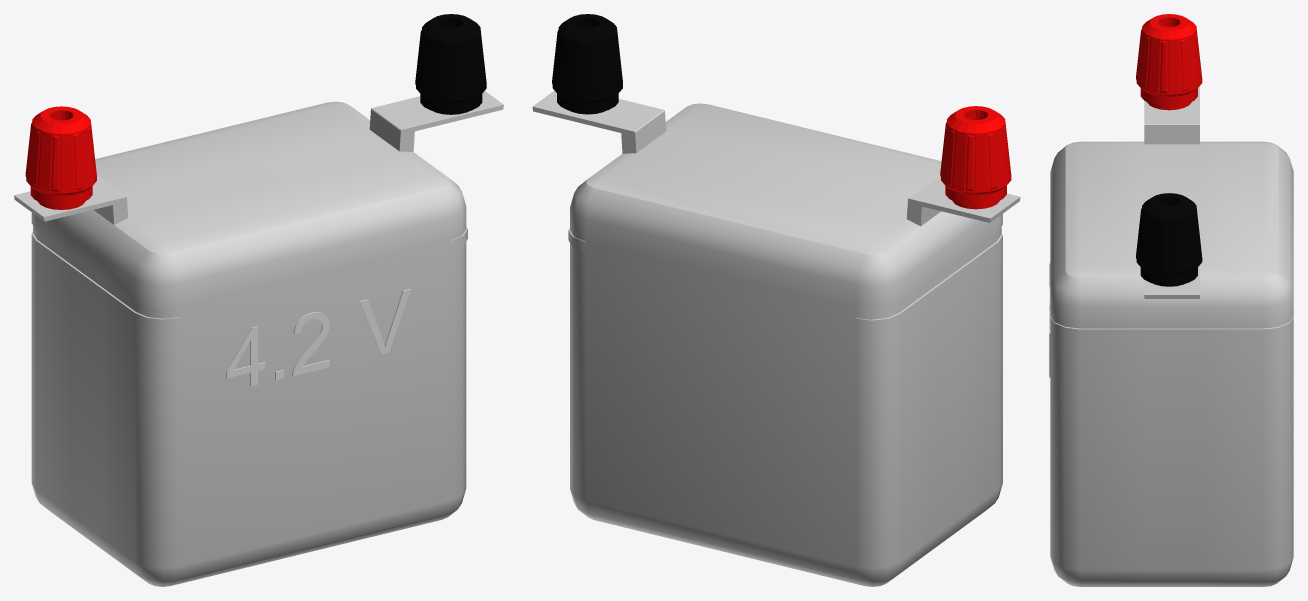
File: batery.FBX
3 renders of one model, left to right at view 1: azimuth 30°, elevation 25°; view 2: azimuth 150°, elevation 25°; view 3: azimuth 270°, elevation 25°, orthographic. The views are drawn at different scales.
Visible parts, largest first — view 1: ChamferBox004, Cylinder013, Cylinder014, Text002; view 2: ChamferBox004, Cylinder013, Cylinder014; view 3: ChamferBox004, Cylinder013, Cylinder014.
Part boxes in pixels (x1,y1,x2,y2): ChamferBox004: [14, 91, 503, 586]; Cylinder013: [25, 106, 96, 209]; Cylinder014: [415, 14, 486, 114]; Text002: [226, 289, 410, 386]; ChamferBox004: [532, 90, 1020, 586]; Cylinder013: [940, 106, 1011, 209]; Cylinder014: [552, 14, 622, 114]; ChamferBox004: [1050, 86, 1293, 586]; Cylinder013: [1136, 14, 1202, 110]; Cylinder014: [1136, 193, 1202, 286].
Size of the model in its own units: 2945 by 2732 by 1460.
